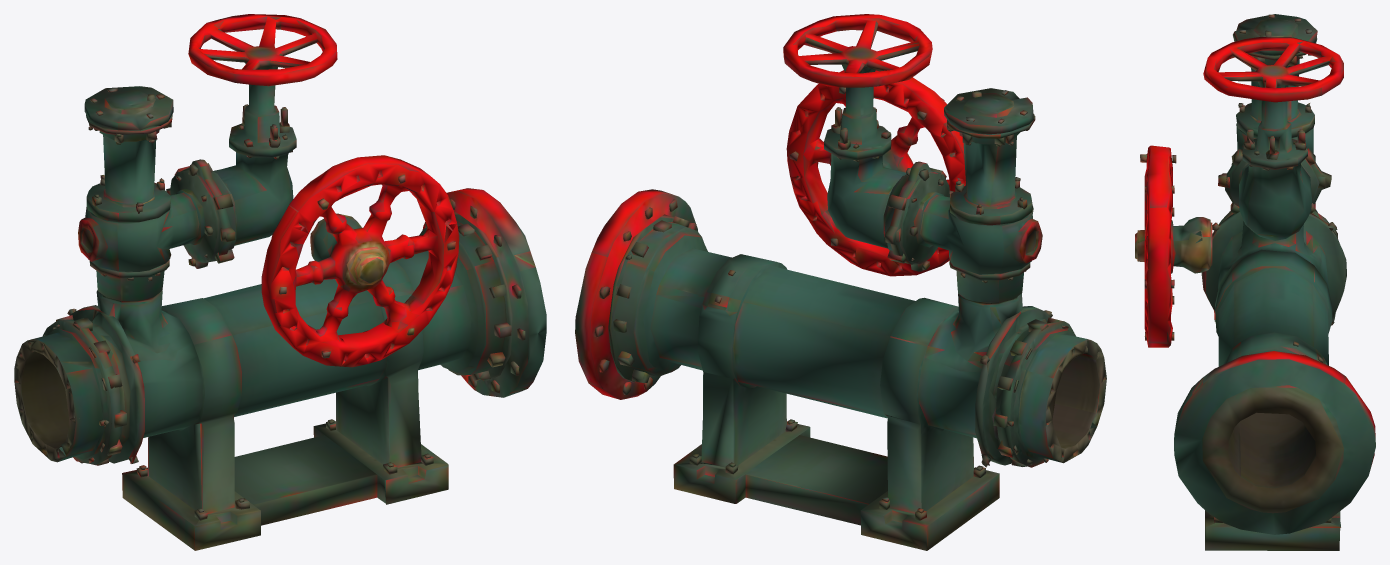
The model's file is valve.glb.
The picture shows the model from 3 angles, left to right: view 1: azimuth 30°, elevation 25°; view 2: azimuth 150°, elevation 25°; view 3: azimuth 270°, elevation 25°; orthographic projection. The views are drawn at different scales.
Bounding box in the file's own units: 0.9595 × 0.9243 × 0.4805.
Materials: 1 (1 with a texture image).
